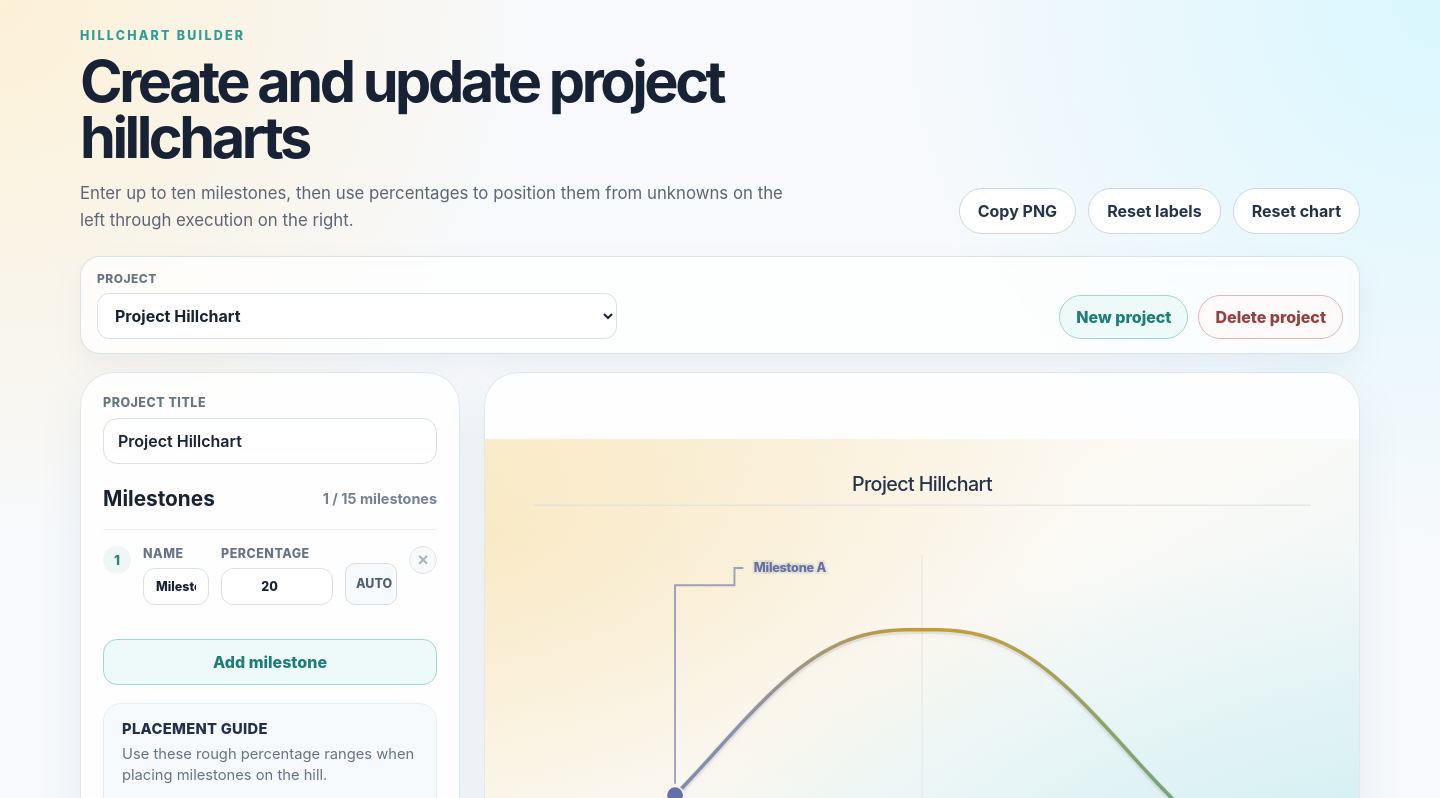
App › clears a manual override when the milestone percentage changes
Expected: the button with aria-label "Reset label position for milestone 1" is enabled, [345,563,397,605]
Replace the text in the number field named "Percentage for milestone 1" with "35" at (277, 586), box [221,568,333,605]
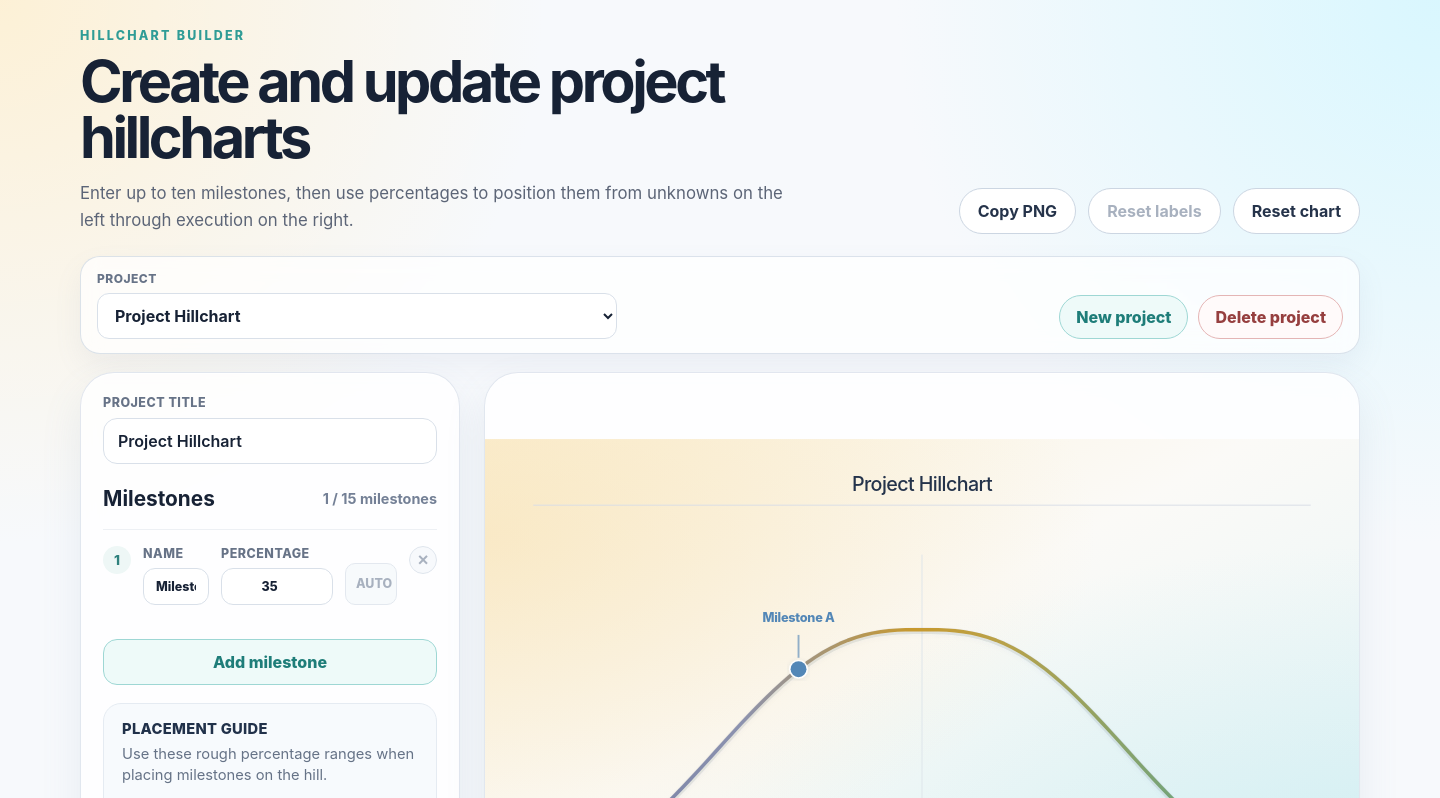
Expected: the button with aria-label "Reset label position for milestone 1" is disabled, [345,563,397,605]
